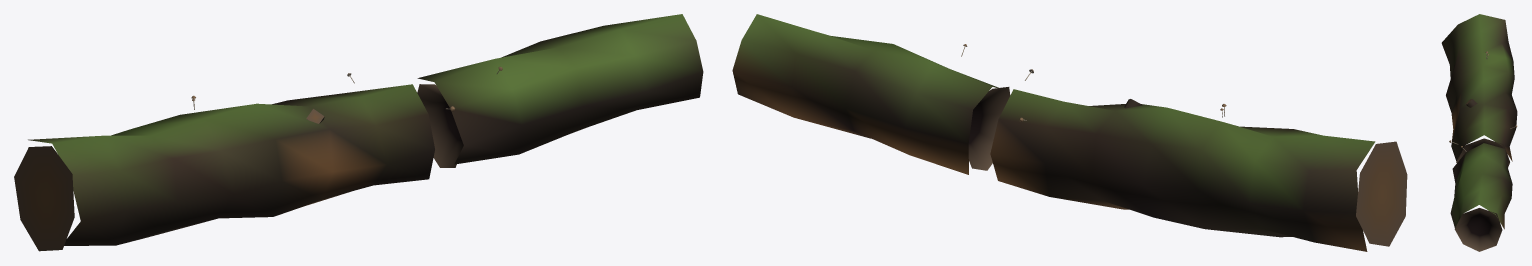
Rendered from log-rotten-b.lod1.glb.
3 renders of one model, left to right at view 1: azimuth 30°, elevation 25°; view 2: azimuth 150°, elevation 25°; view 3: azimuth 270°, elevation 25°, orthographic. The views are drawn at different scales.
Size of the model in its own units: 2.98 by 0.5959 by 0.5264.
